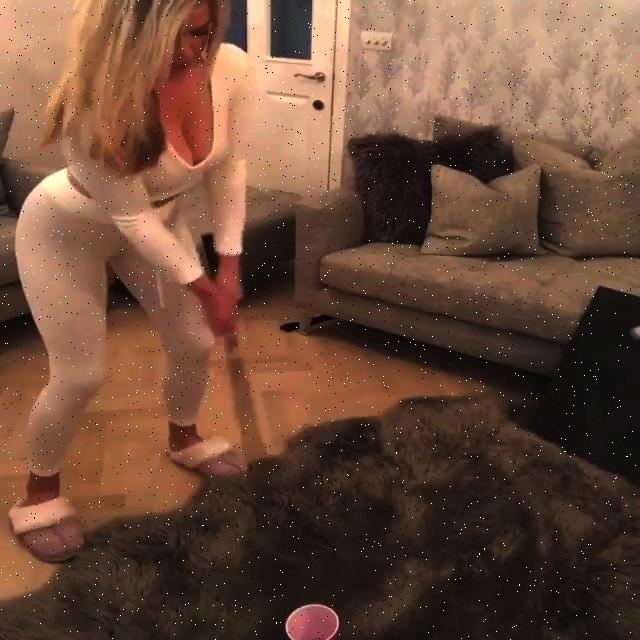golf club-handle: (202, 232, 275, 532)
